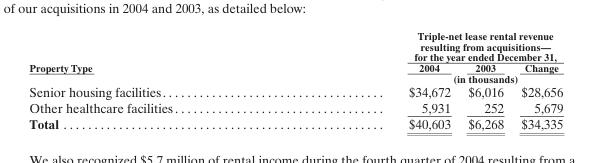table: (28, 29, 562, 131)
table column: (28, 29, 289, 131), (289, 29, 458, 131), (458, 29, 511, 131), (511, 29, 562, 131)
table column header: (28, 29, 562, 83)
table row: (28, 29, 562, 61), (28, 83, 562, 99), (28, 99, 562, 115), (28, 115, 562, 131), (28, 61, 562, 72), (28, 72, 562, 83)
table spanning cell: (28, 29, 289, 83), (289, 29, 562, 61), (289, 72, 562, 83)
